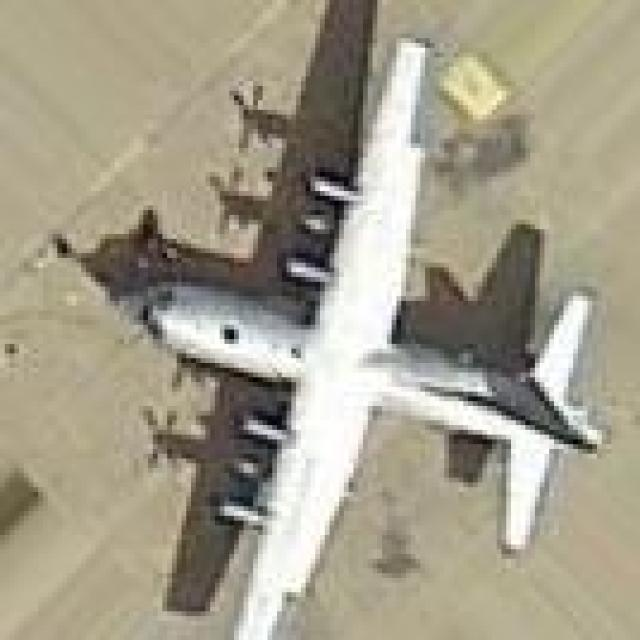C-130_TopDown: (66, 0, 614, 640)
